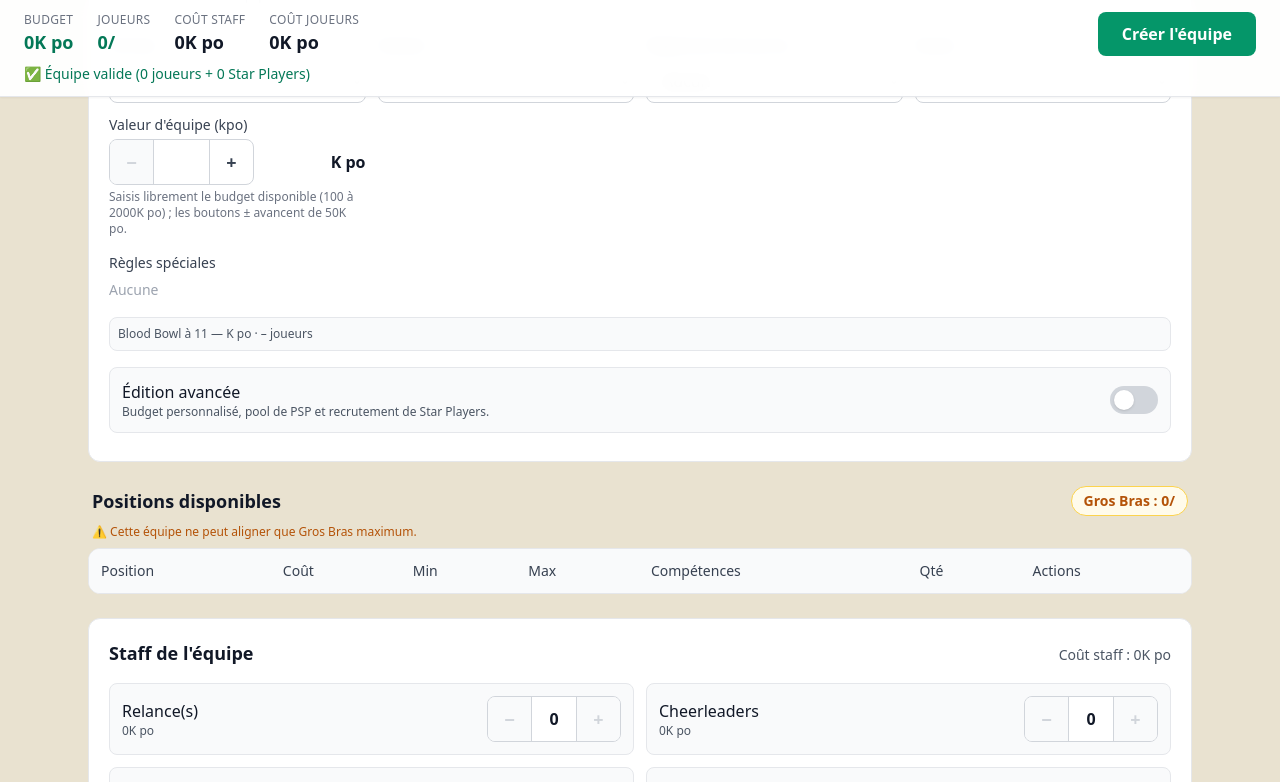
Builder — Star Players réservés à l'Édition avancée › affiche la section Star Players quand la case est cochée, la re-masque décochée
(page scrolled)
Click the switch with test id "builder-advanced-toggle" at (181, 392), box [109, 367, 1171, 433]
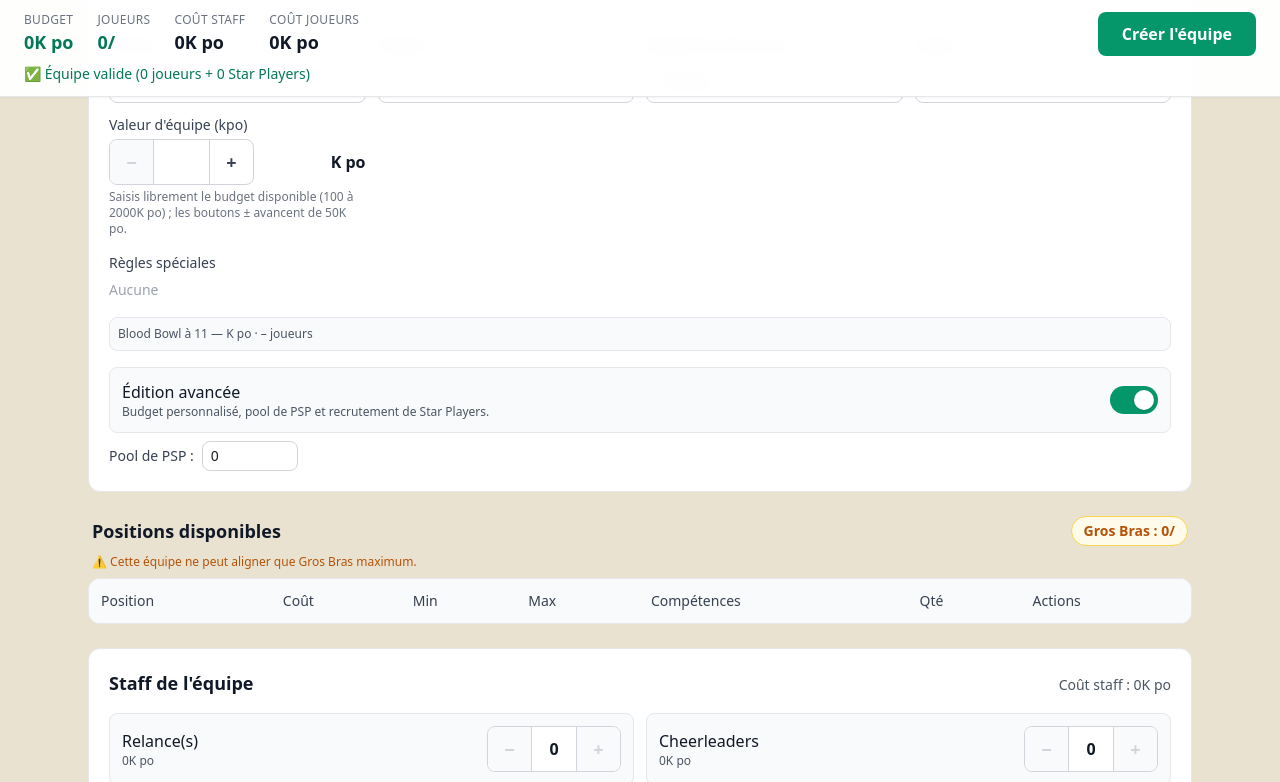
Click the switch with test id "builder-advanced-toggle" at (181, 392), box [109, 367, 1171, 433]
(page scrolled)
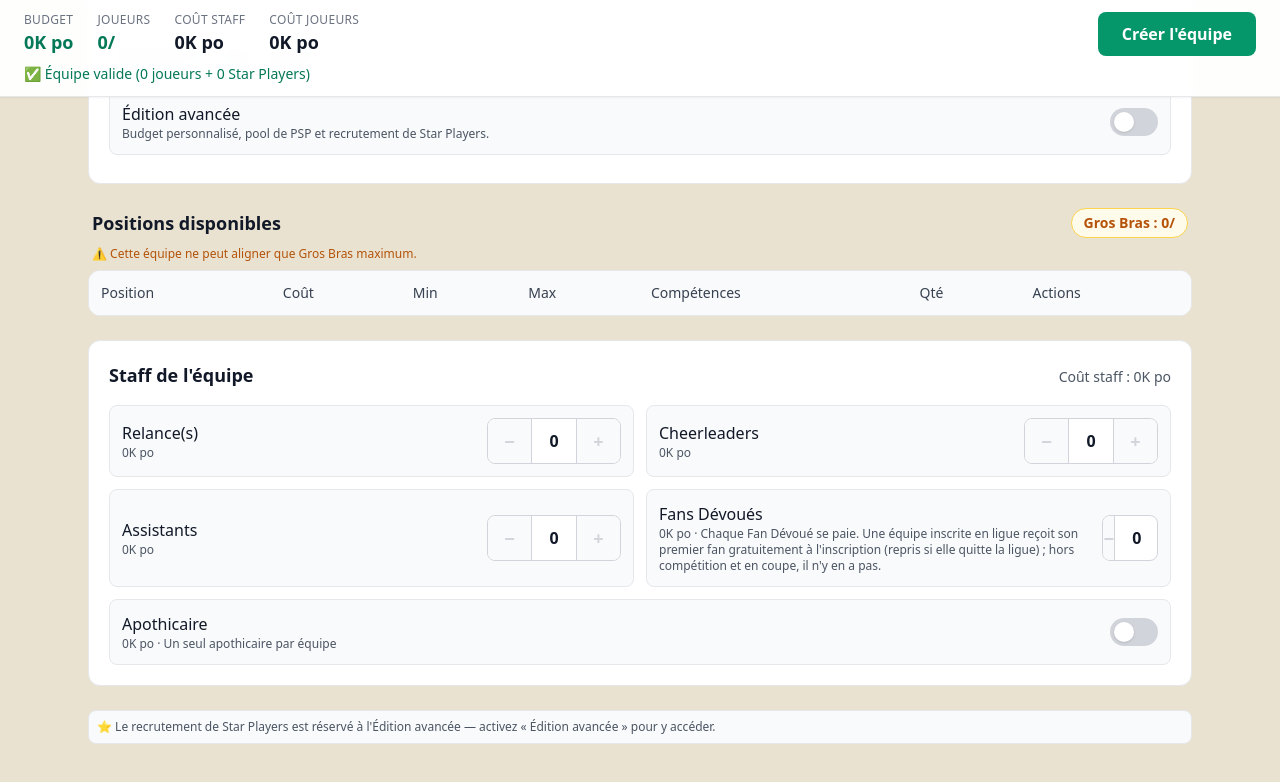
Now the text with test id "star-players-requires-advanced" is shown, box [88, 710, 1192, 744]
